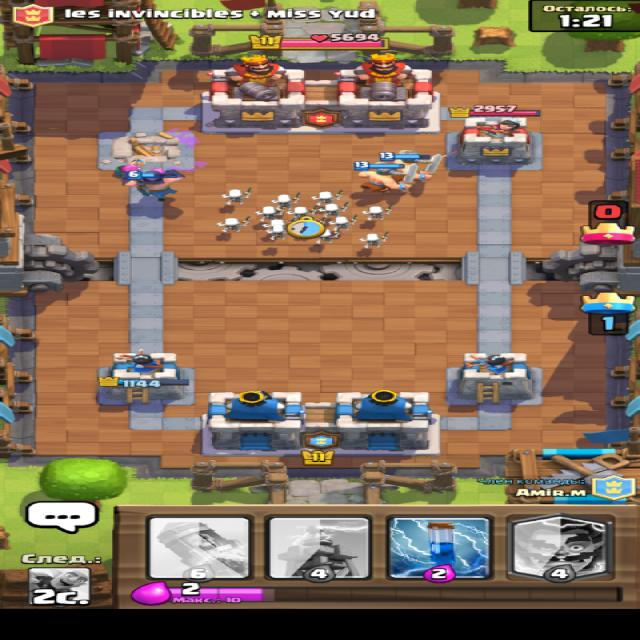Player-Archer: (111, 157, 145, 178)
Player-EliteBarbarian: (351, 159, 416, 194), (374, 149, 442, 182)
Player-Executioner: (121, 166, 187, 204)
Player-Skeleton: (216, 186, 253, 206), (213, 215, 250, 234), (355, 230, 388, 249), (324, 214, 359, 231), (308, 189, 344, 205), (359, 203, 392, 220), (269, 190, 299, 208), (319, 203, 348, 220), (254, 206, 282, 221), (311, 230, 340, 244), (264, 224, 288, 240), (261, 219, 284, 226)
